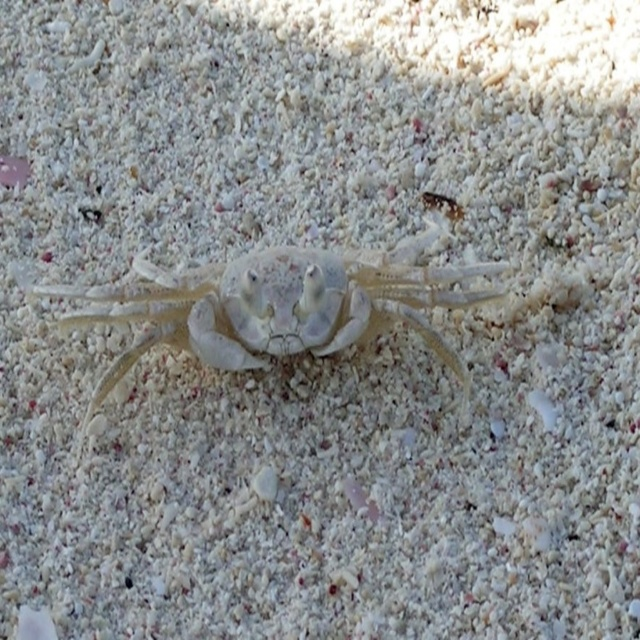Crab: (34, 217, 517, 444)
